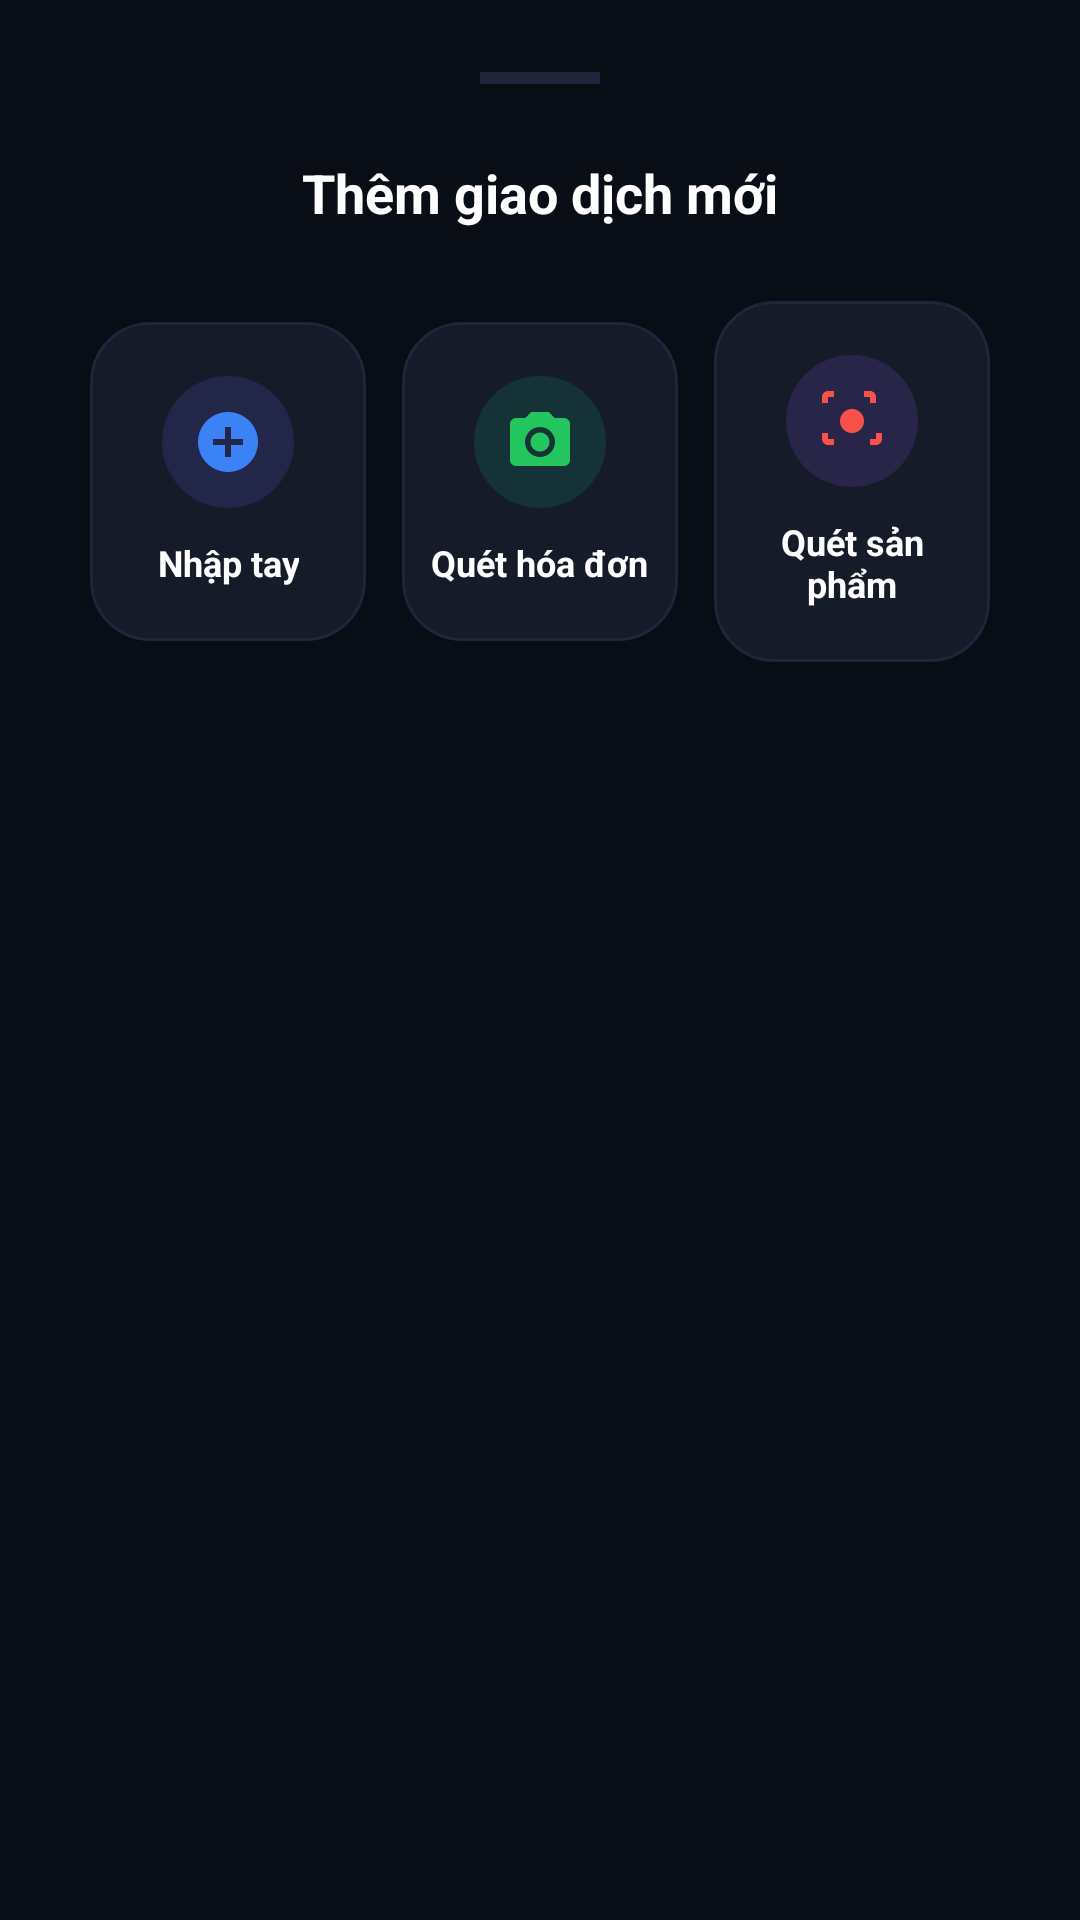

Icons on this 1080w x 1920h Android screen, each with its box as (x1, y1, x2, y2):
add: (162, 376, 294, 508)
camera: (510, 412, 570, 466)
scan: (786, 355, 918, 487)
